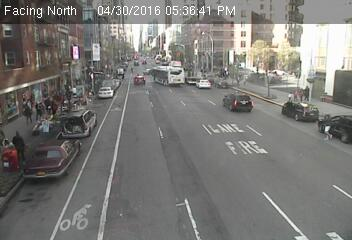neg: (82, 36, 103, 63), (66, 195, 86, 222), (185, 148, 205, 174), (159, 63, 173, 81), (318, 36, 331, 54), (126, 102, 139, 120), (221, 66, 233, 82), (234, 95, 246, 110), (75, 98, 85, 111), (135, 55, 145, 68), (108, 78, 113, 85)
pos: (3, 127, 30, 162), (314, 111, 336, 140), (16, 95, 35, 121), (30, 97, 47, 120), (301, 82, 315, 100), (286, 89, 296, 102)
